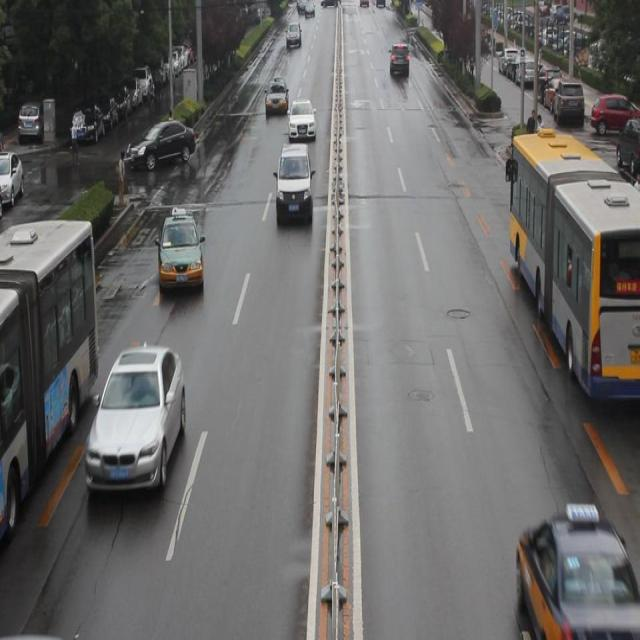car: (515, 500, 640, 632), (89, 346, 187, 493), (154, 208, 205, 292), (124, 121, 197, 172), (285, 99, 316, 140)
truck: (272, 140, 316, 223)
van: (502, 130, 640, 408), (1, 221, 96, 536)
